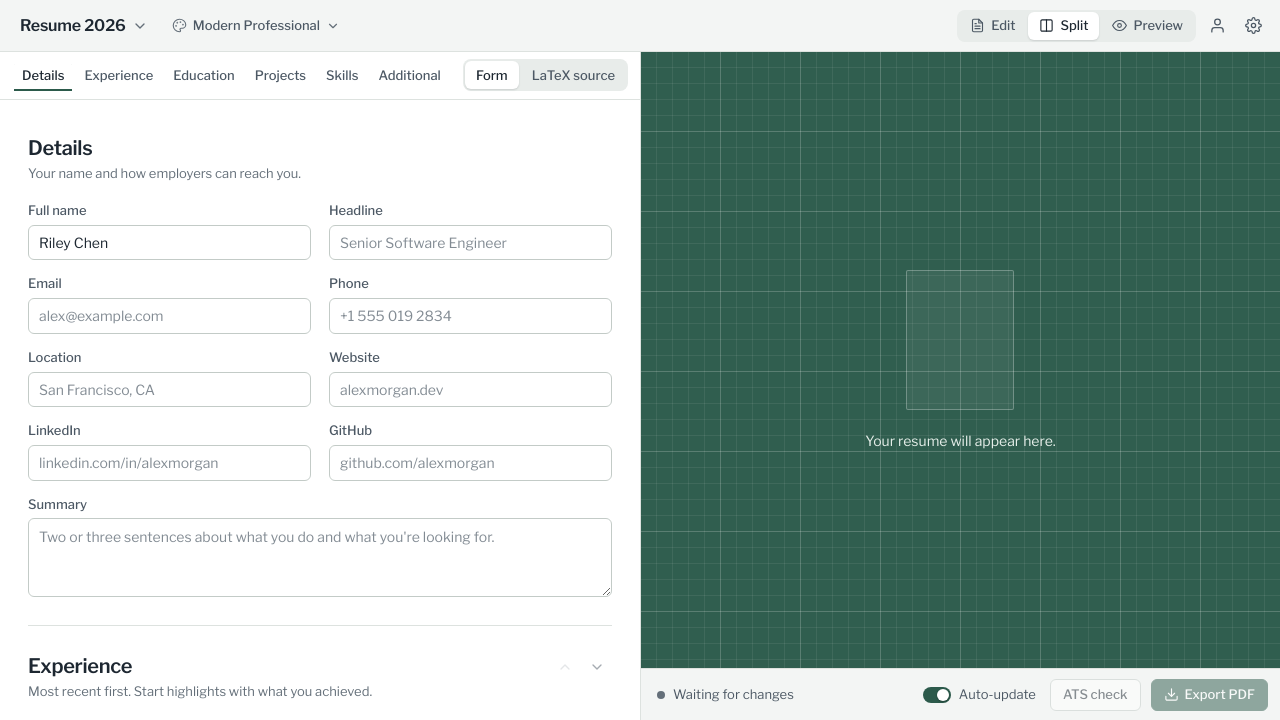
App Integration Tests › loads and displays documents on startup with the document menu closed
Expected: the text "Cover Letter" is not shown
What coordinates should you click on to do the following:
click the button with test id "btn-toggle-sidebar"
I would click on:
 (83, 26)
Its box is 10,8 -> 156,44.
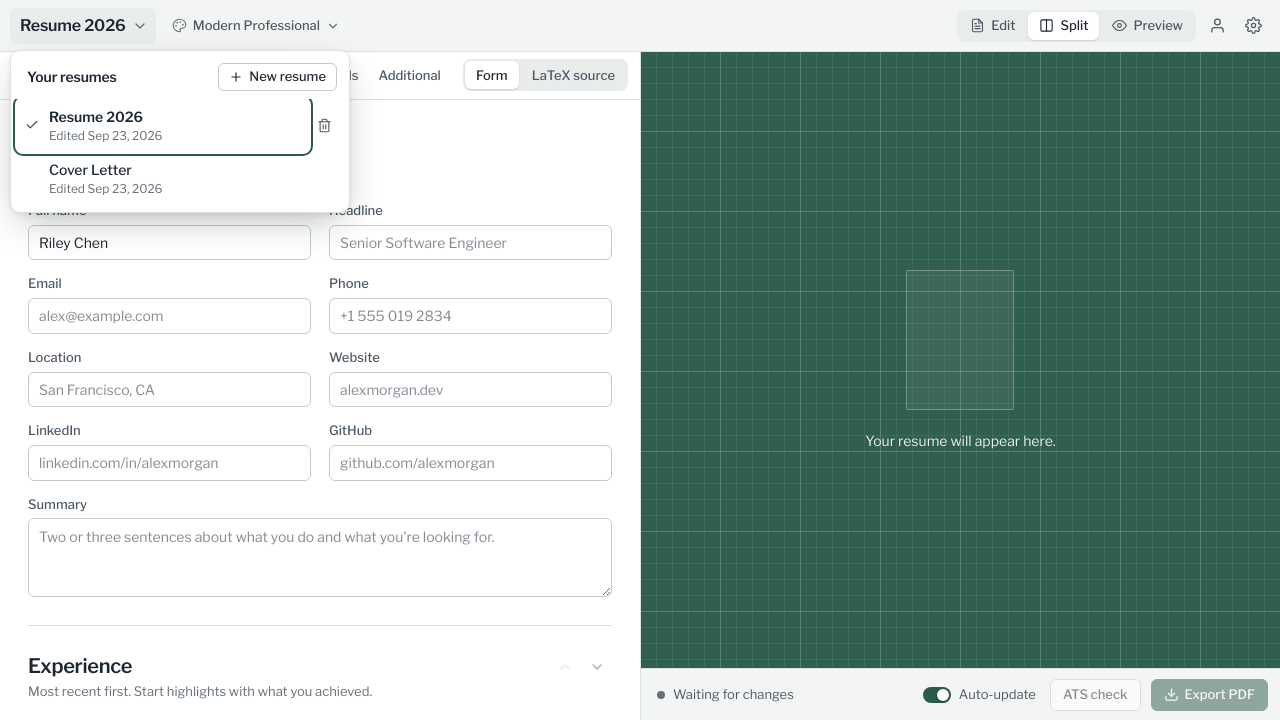
Expected: the text "Cover Letter" is shown, 49,161 -> 132,178
